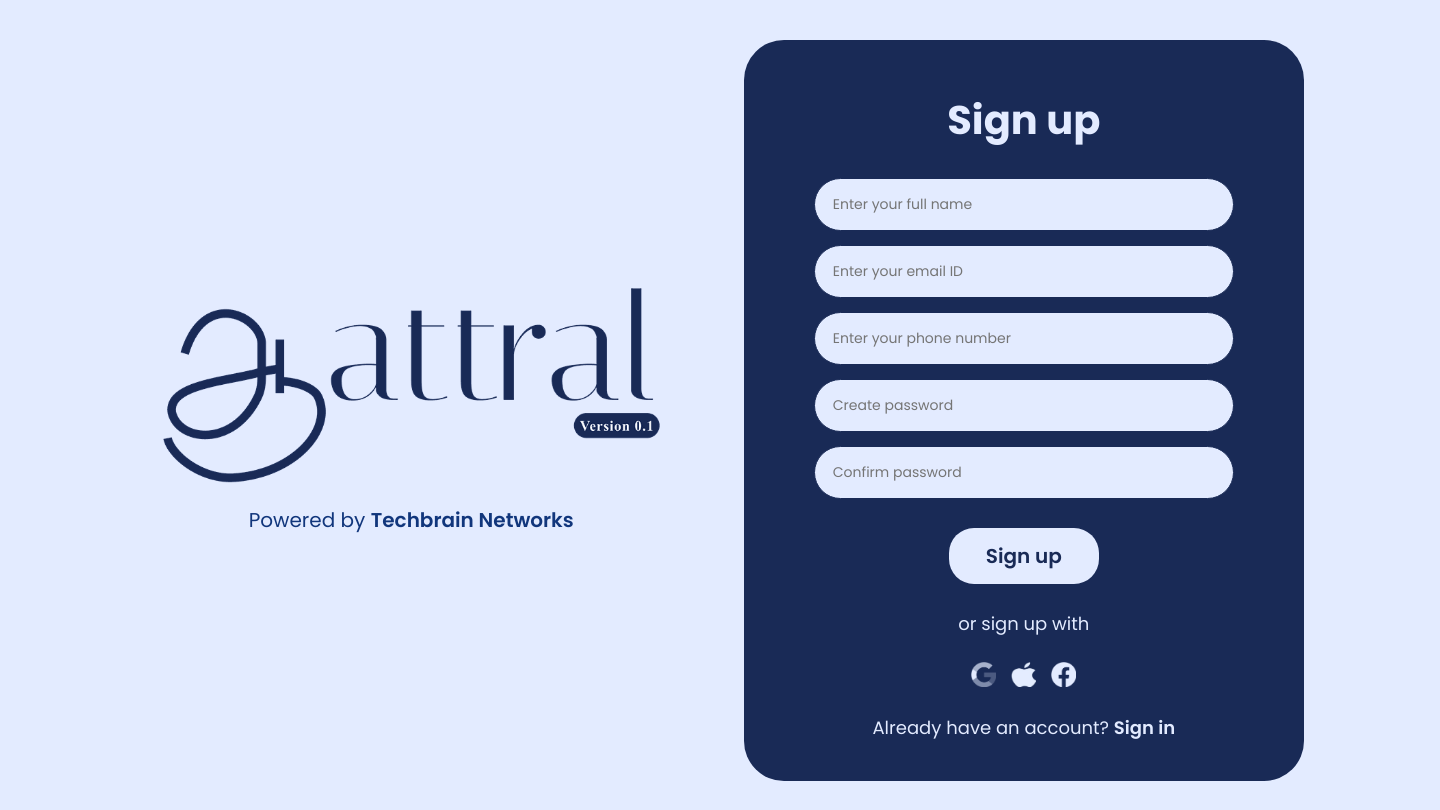
Scenario: Signuppage Component Tests › shows error for invalid phone number
The width and height of the screenshot is (1440, 810).
Type "123" into the field with placeholder "Enter your phone number" at (1024, 338), box [814,312,1234,365]
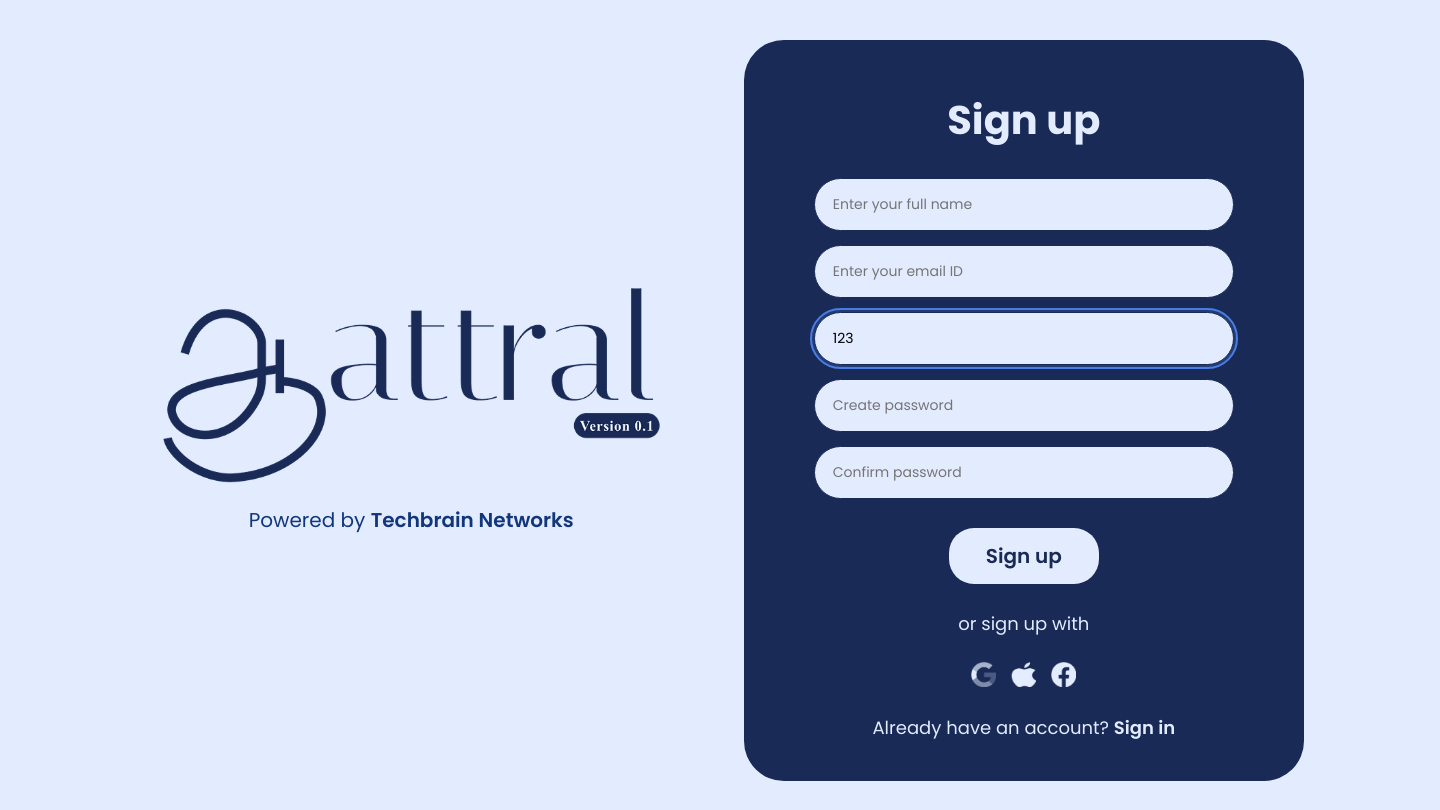
Click the button "Sign up" at (1024, 556), box [949,528,1099,584]
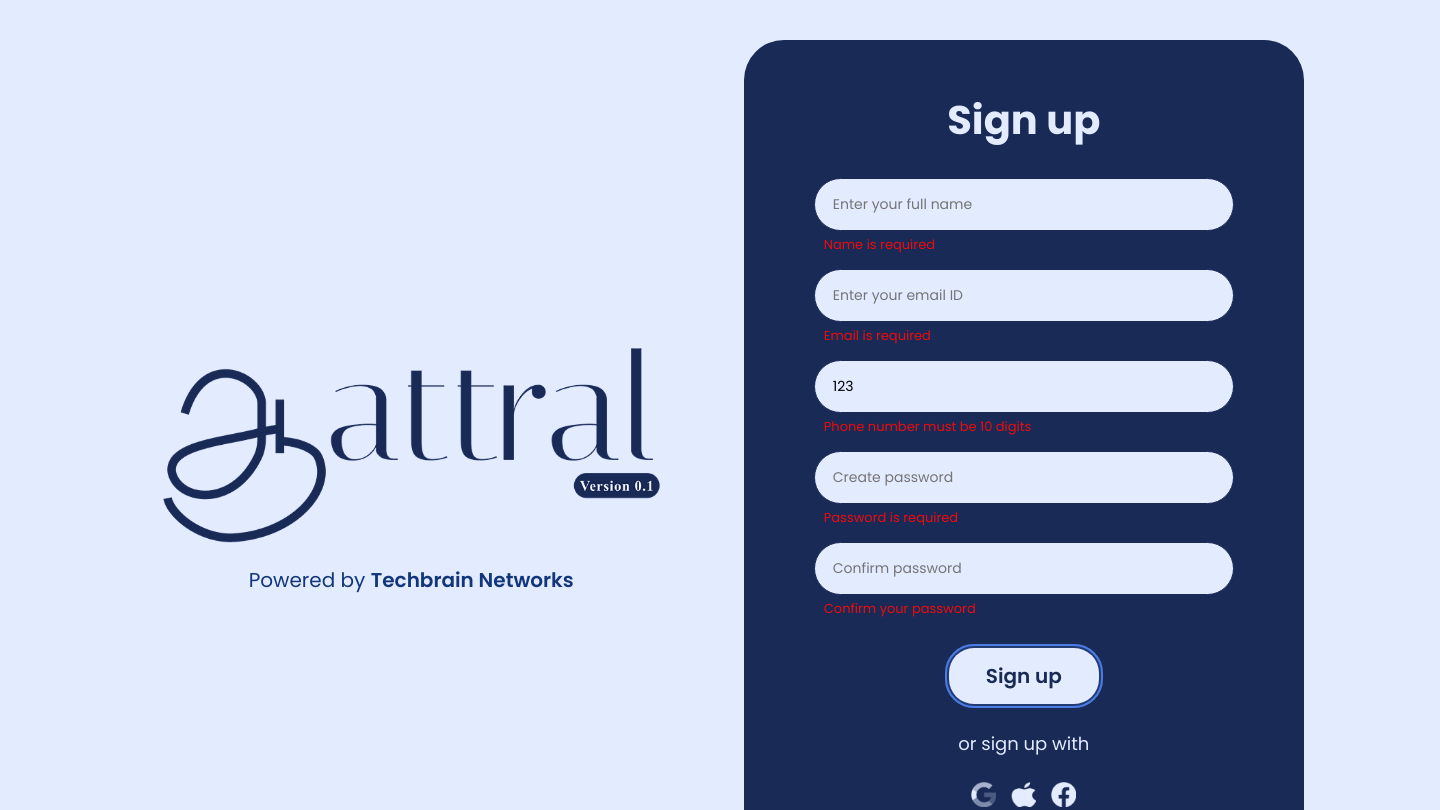
Expected: the text "Phone number must be 10 digits" is shown, [824,417,1031,436]
